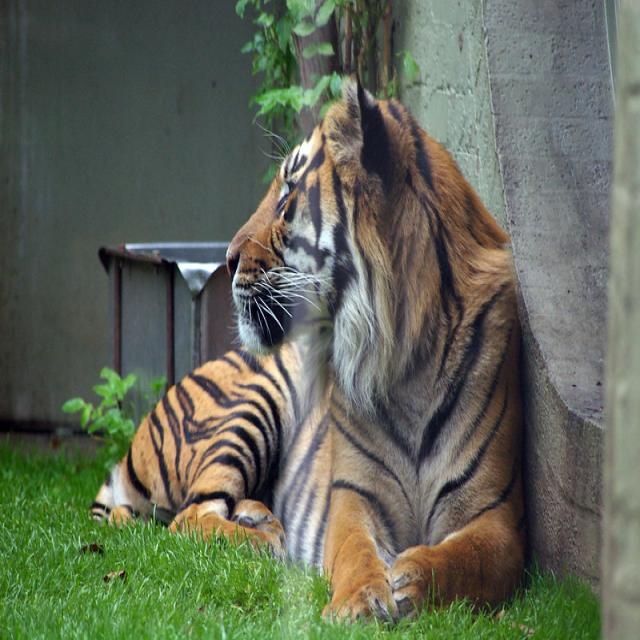Tiger: (90, 71, 524, 633)
